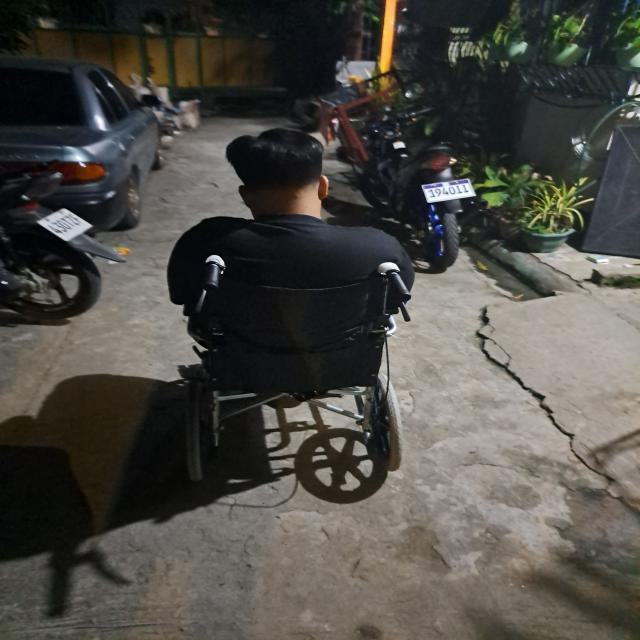wheelchairs: (164, 251, 430, 487)
